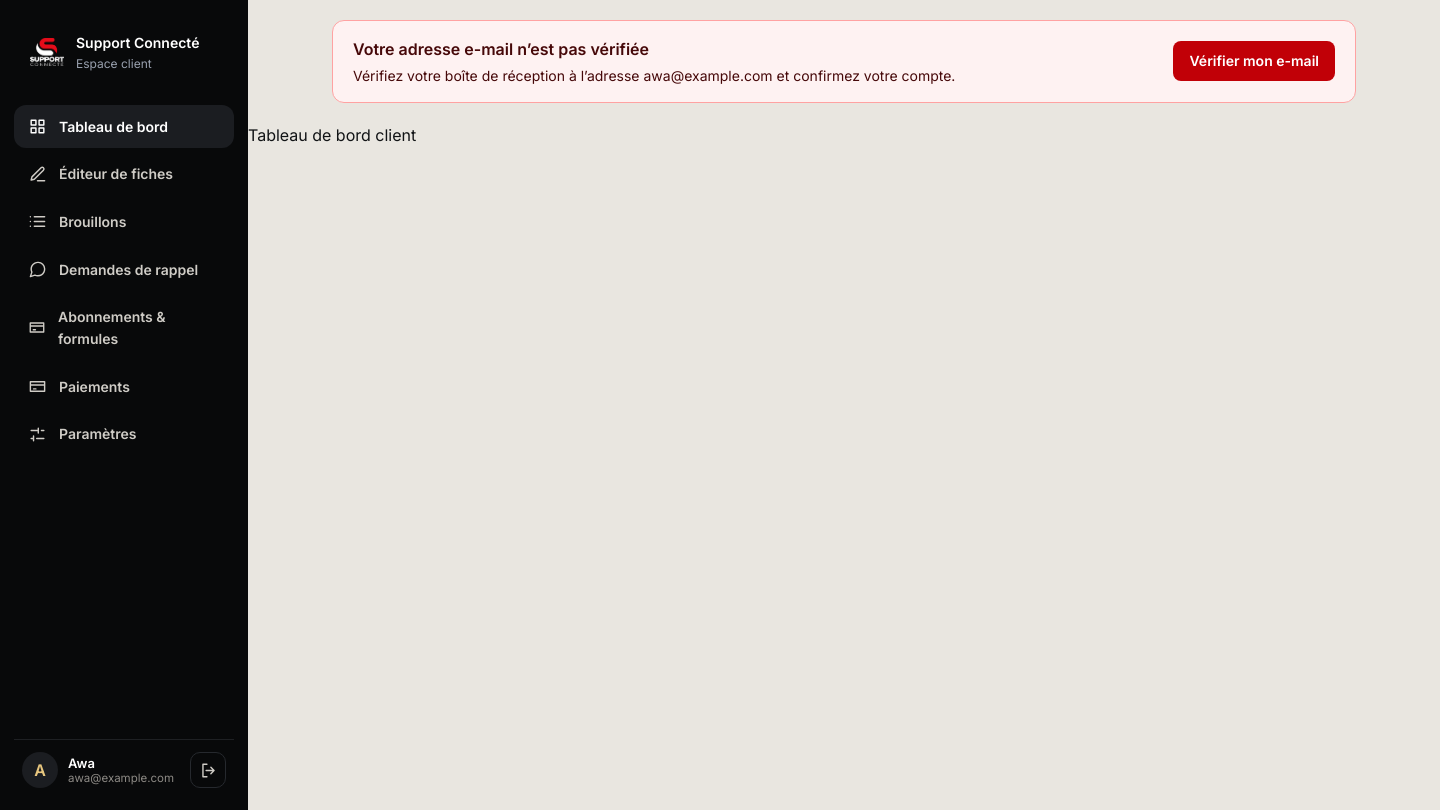
ClientLayout email verification › shows a reminder and resends the verification link on click
What coordinates should you click on to do the following:
click the button "Vérifier mon e-mail"
I would click on:
 (1254, 61)
Its box is top-left (1174, 41), bottom-right (1335, 81).
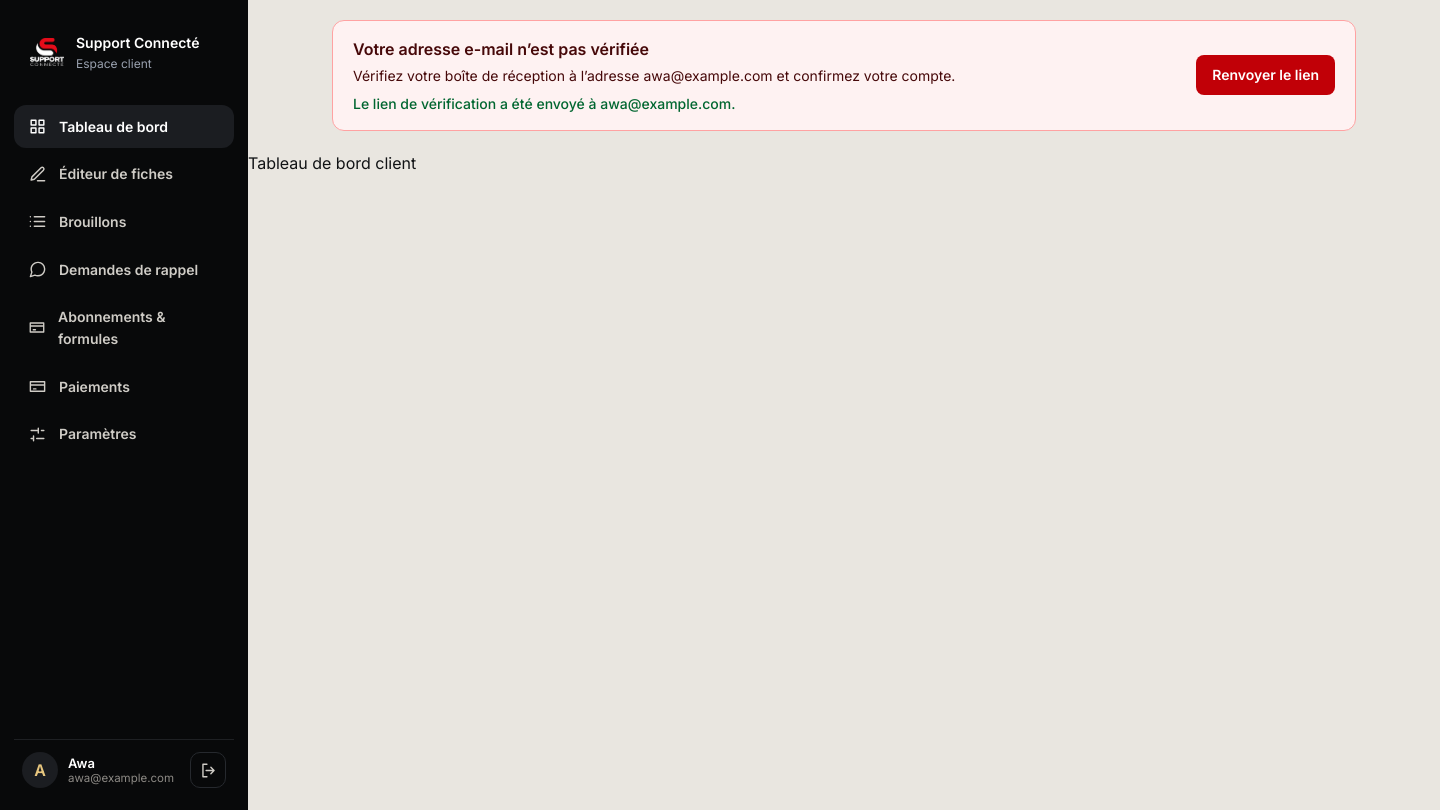
Result: the text "Le lien de vérification a été envoyé à awa@example.com." is shown at top-left (353, 95), bottom-right (736, 112)
